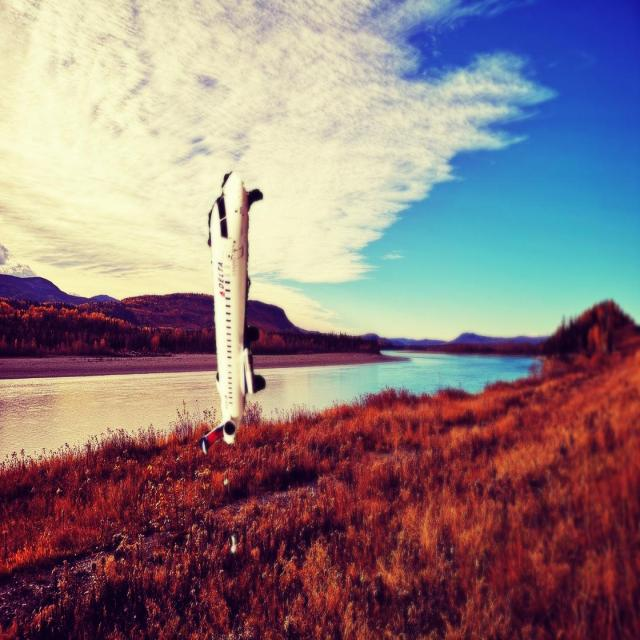airplane: (197, 170, 266, 455)
